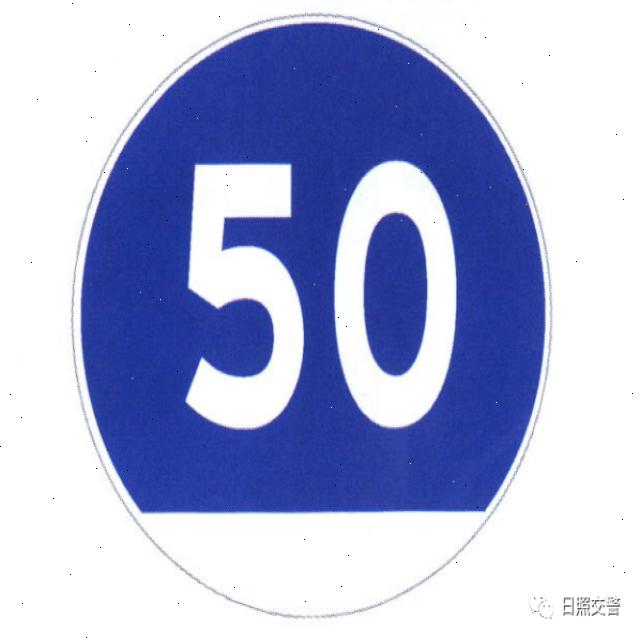speed limit 50: (73, 13, 552, 622)
